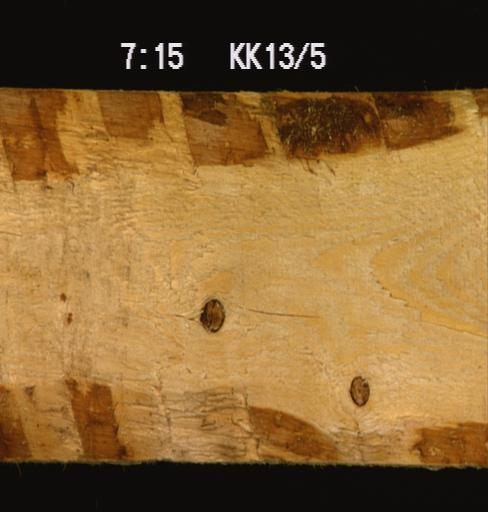dry_knot: (197, 295, 225, 333), (345, 374, 371, 408)
split: (236, 293, 333, 321)
wave: (0, 90, 487, 176), (0, 379, 486, 465)
